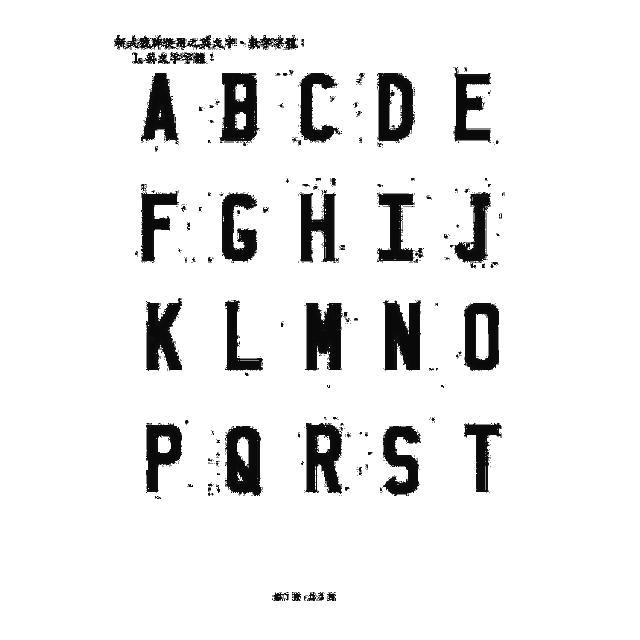A: (140, 67, 180, 145)
B: (217, 72, 260, 144)
C: (295, 72, 337, 144)
D: (373, 68, 417, 144)
E: (448, 68, 496, 146)
F: (133, 188, 183, 268)
G: (216, 190, 260, 264)
H: (296, 192, 340, 266)
J: (451, 190, 499, 264)
K: (145, 297, 185, 375)
L: (220, 298, 266, 377)
M: (299, 298, 346, 377)
N: (378, 296, 428, 376)
P: (137, 422, 187, 498)
Q: (220, 424, 266, 498)
R: (302, 419, 346, 496)
S: (380, 424, 424, 498)
T: (455, 420, 503, 496)
